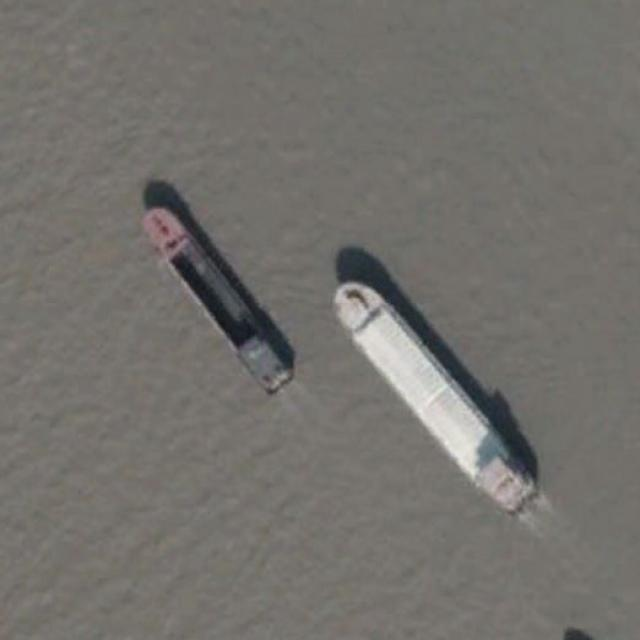boat: (328, 276, 540, 521), (136, 204, 296, 398)
